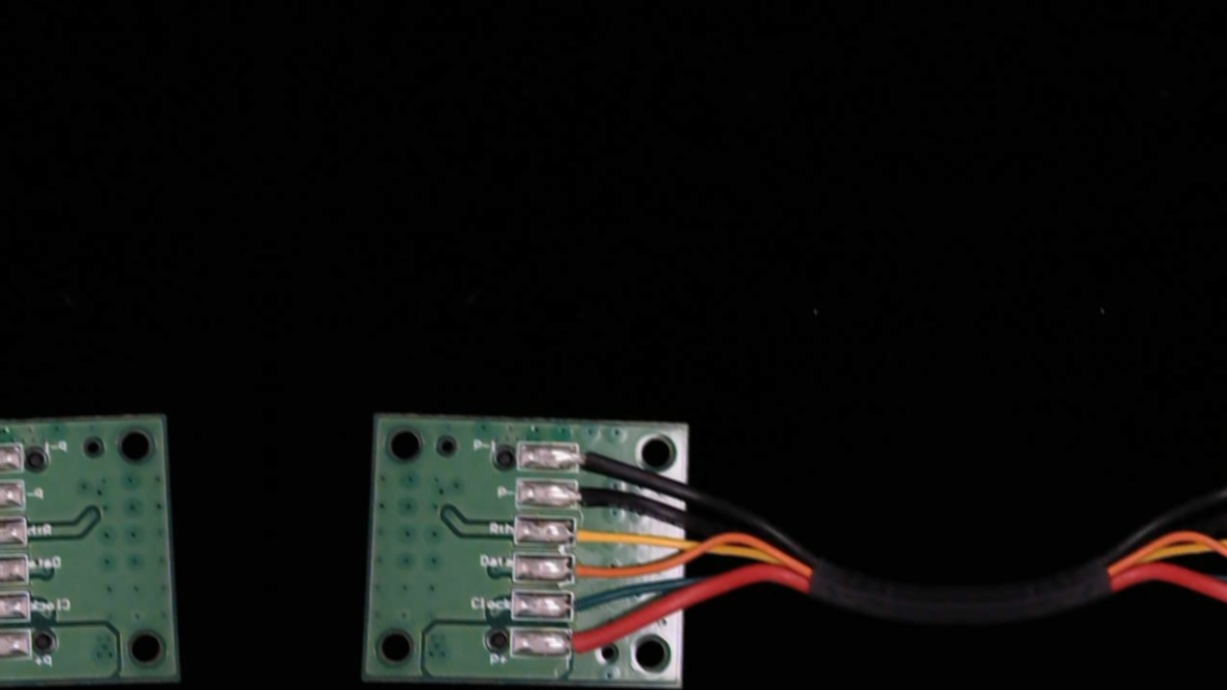Black: (562, 479, 618, 512)
Black1: (560, 442, 609, 472)
Green: (560, 590, 607, 621)
Orange: (558, 555, 621, 582)
Red: (558, 628, 615, 657)
Yellow: (557, 521, 625, 550)
